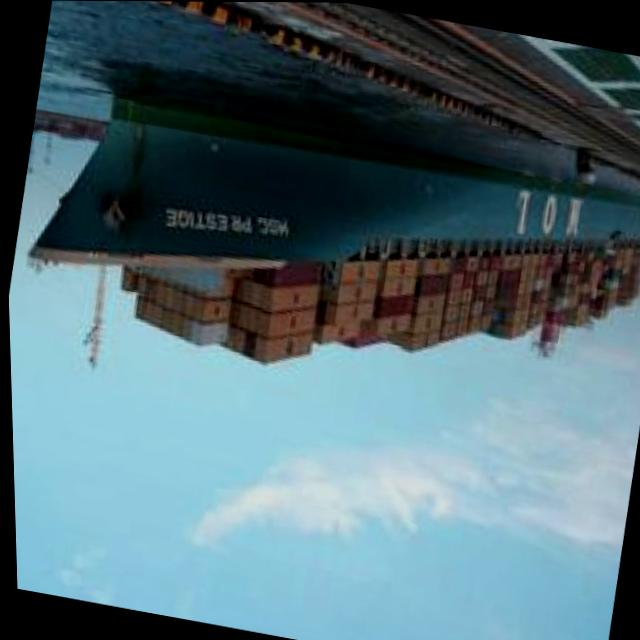ship2: (25, 92, 640, 367)
